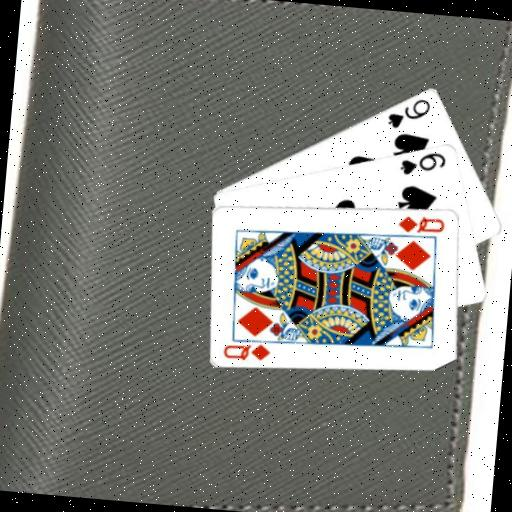6S: (397, 146, 448, 179)
9S: (384, 92, 433, 133)
QD: (395, 211, 448, 237), (220, 338, 273, 364)
